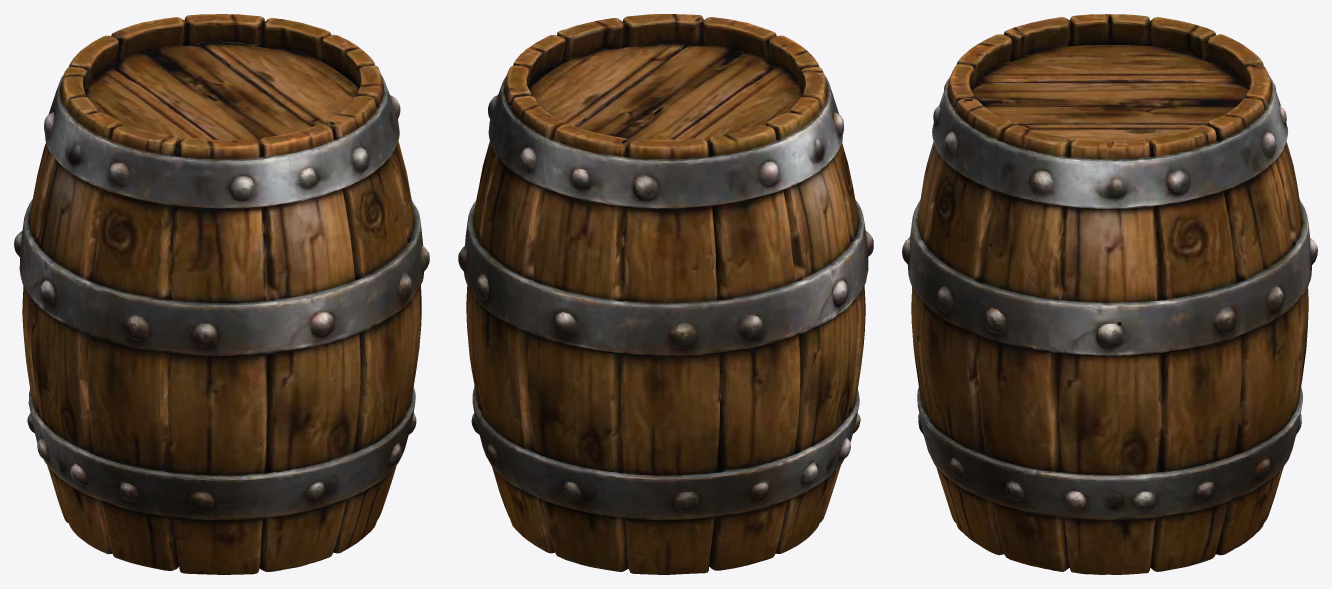
Rendered from barrelWithMesh_00001_.glb.
3 views of the same model, side by side, from view 1: azimuth 30°, elevation 25°; view 2: azimuth 150°, elevation 25°; view 3: azimuth 270°, elevation 25° (orthographic).
Visible parts, largest first — view 1: geometry_0; view 2: geometry_0; view 3: geometry_0.
Part boxes in pixels (bbox=[...]): geometry_0: bbox=[14, 14, 429, 574]; geometry_0: bbox=[458, 14, 873, 574]; geometry_0: bbox=[902, 14, 1317, 574].
Bounding box in the file's own units: 0.8814 × 0.9999 × 0.8804.
1 material, 1 textured.
